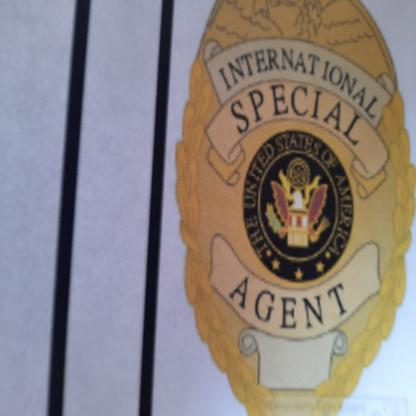G-man: (167, 2, 416, 416)
